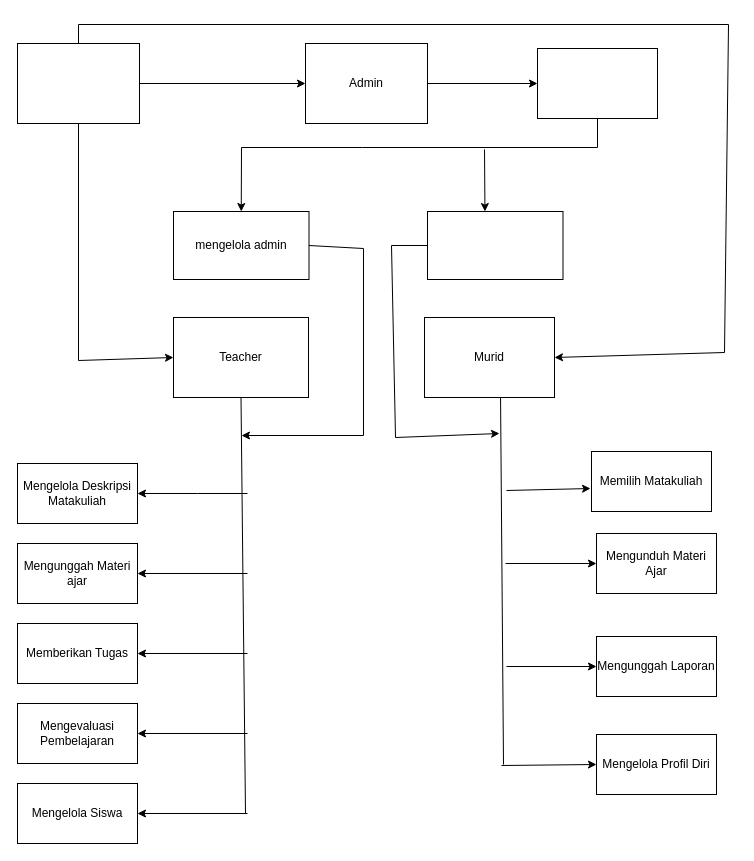
The diagram is 754 pixels wide and 861 high, and some of its shapes have lost their labels. The box of each missing label's shape, as (x1, y1, x2, y2) in pixels:
LMS: (16, 42, 140, 124)
Mengelola murid: (426, 210, 563, 280)
SISTEM: (536, 48, 658, 118)
